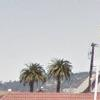Palm tree: (17, 49, 82, 99)
